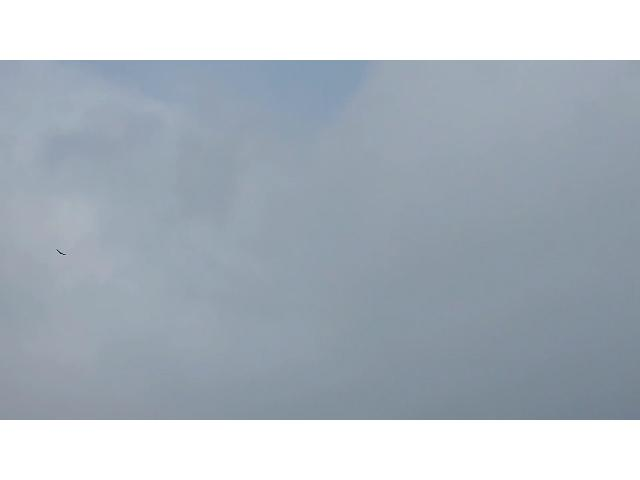Anti-Drone: (56, 248, 68, 256)
